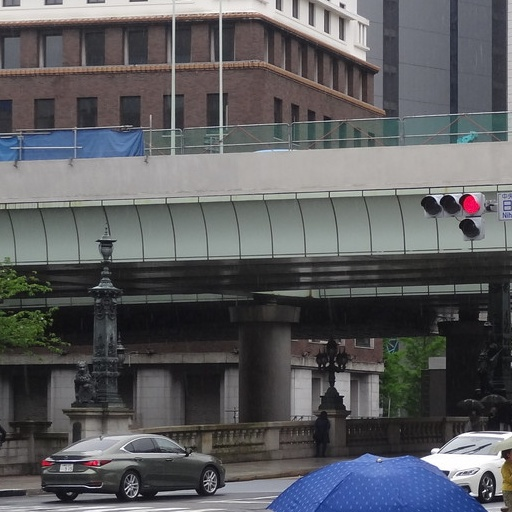Traffic_Signal_Red: (408, 181, 498, 219)
